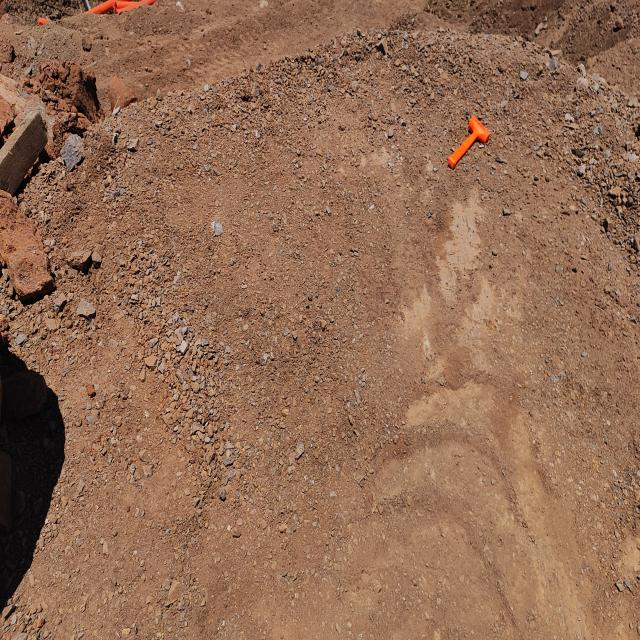Orange_hammer: (447, 114, 490, 170)
